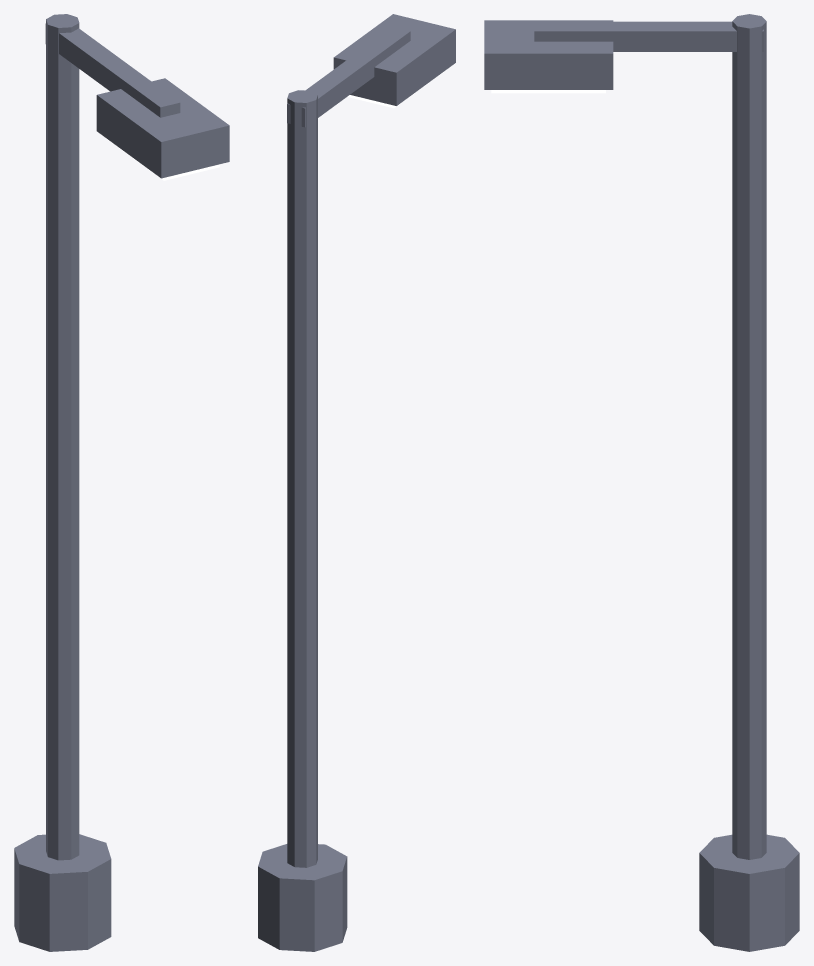
File: street_lamp.glb
3 views of the same model, side by side, from view 1: azimuth 30°, elevation 25°; view 2: azimuth 150°, elevation 25°; view 3: azimuth 270°, elevation 25° (orthographic). The views are drawn at different scales.
Parts seen in each view (by area): view 1: Pole, Base, Head, Arm; view 2: Pole, Base, Head, Arm; view 3: Pole, Base, Head, Arm.
Boxes of the visible parts, <box> form: Pole: <box>46,14,79,860</box>; Base: <box>14,834,111,951</box>; Head: <box>96,78,229,178</box>; Arm: <box>45,23,180,117</box>; Pole: <box>287,90,317,867</box>; Base: <box>258,844,347,951</box>; Head: <box>333,14,455,105</box>; Arm: <box>287,27,410,127</box>; Pole: <box>732,14,766,859</box>; Base: <box>699,834,799,951</box>; Head: <box>484,20,613,89</box>; Arm: <box>534,21,763,51</box>.
Size of the model in its own units: 0.7 by 7 by 2.2.
